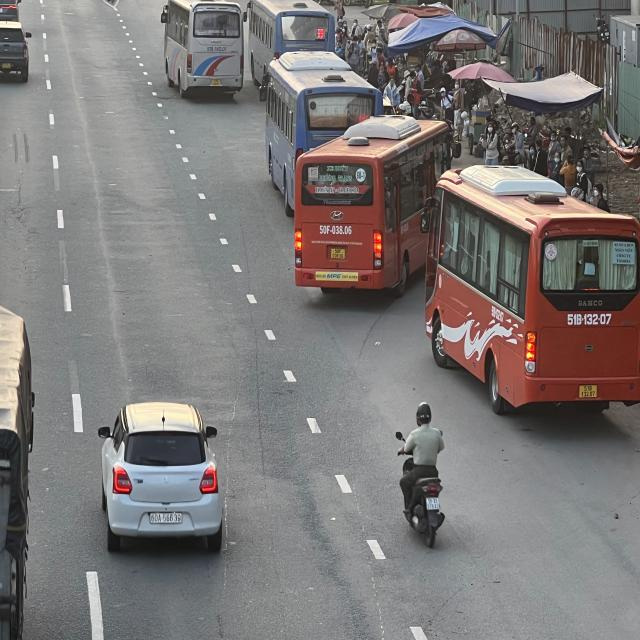car: (98, 400, 223, 552), (0, 25, 31, 82)
coach: (425, 161, 640, 416), (296, 110, 450, 293), (264, 53, 378, 216), (246, 2, 338, 96), (160, 1, 247, 99)
